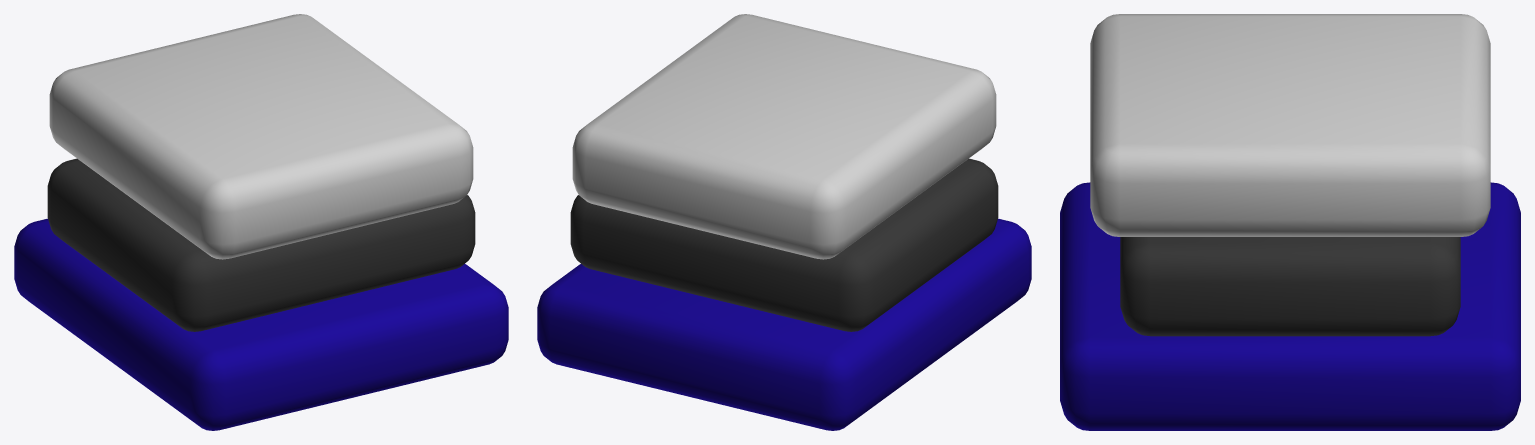
File: charliroom_ropadoblada.fbx
3 renders of one model, left to right at view 1: azimuth 30°, elevation 25°; view 2: azimuth 150°, elevation 25°; view 3: azimuth 270°, elevation 25°, orthographic. The views are drawn at different scales.
Visible parts, largest first — view 1: ropadoblada_1; view 2: ropadoblada_1; view 3: ropadoblada_1.
Boxes of the visible parts, x1,y1,x2,y2 form: ropadoblada_1: (14, 14, 508, 430); ropadoblada_1: (537, 14, 1031, 430); ropadoblada_1: (1060, 14, 1520, 430).
Bounding box in the file's own units: 21 × 14.98 × 23.
